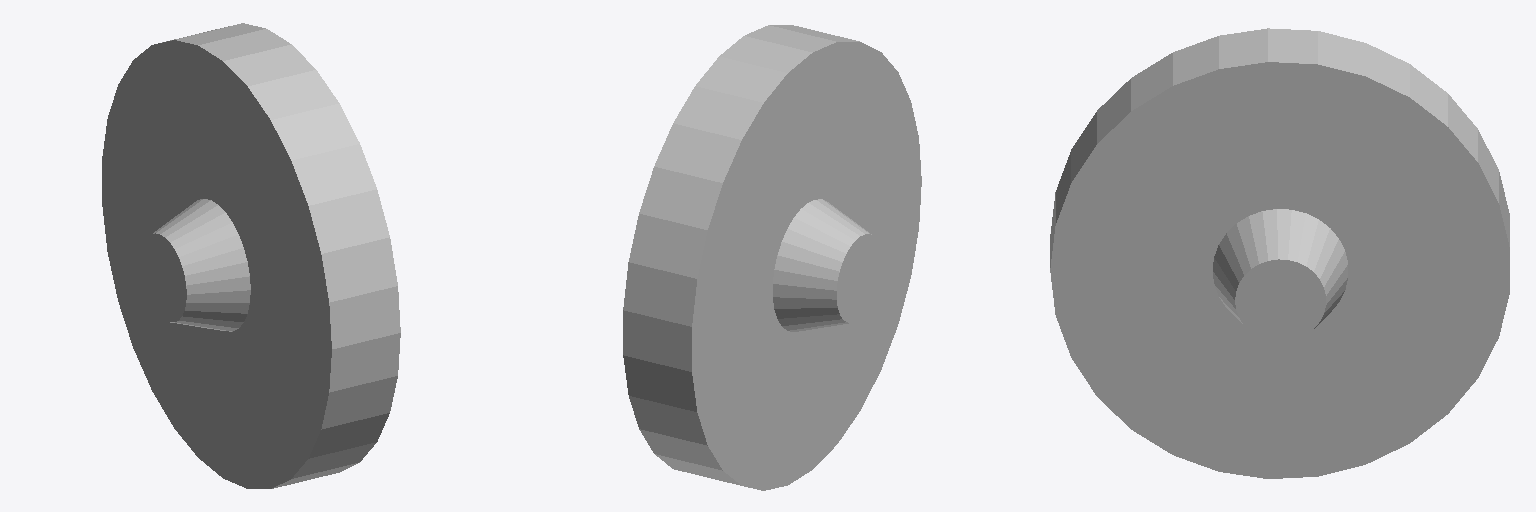
Rendered from EntrePierna.obj.
3 renders of one model, left to right at view 1: azimuth 30°, elevation 25°; view 2: azimuth 150°, elevation 25°; view 3: azimuth 270°, elevation 25°, orthographic.
Visible parts, largest first — view 1: EntrePierna; view 2: EntrePierna; view 3: EntrePierna.
Boxes of the visible parts, x1,y1,x2,y2 form: EntrePierna: [102, 23, 400, 488]; EntrePierna: [623, 25, 921, 490]; EntrePierna: [1050, 28, 1509, 478].
Size of the model in its own units: 4.52 by 9.84 by 9.82.